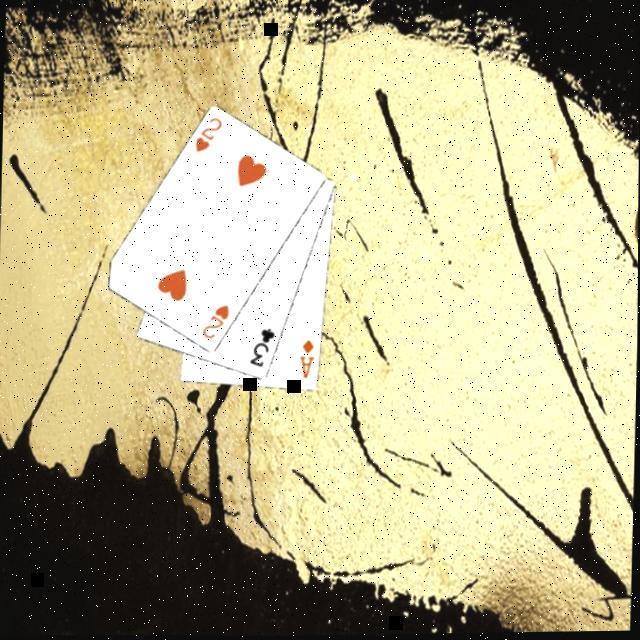2H: (193, 115, 226, 158), (201, 303, 234, 345)
3C: (248, 326, 280, 374)
AD: (298, 339, 319, 384)
